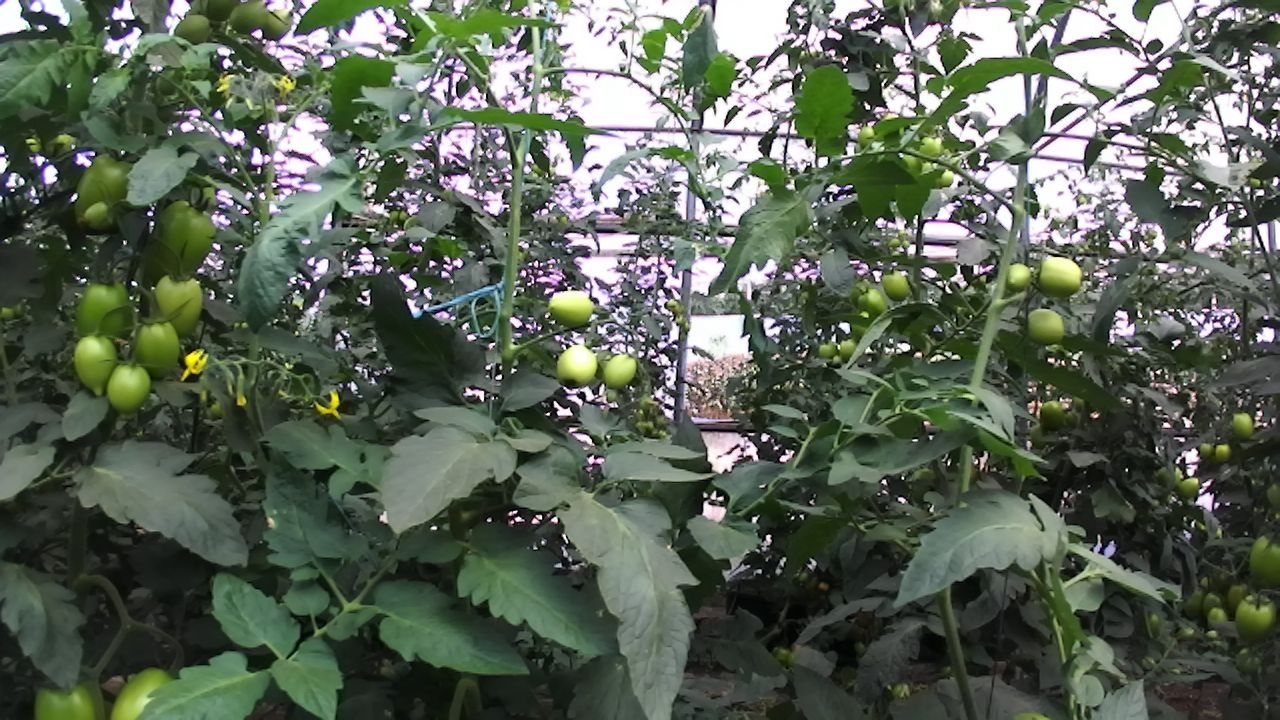tomato: (134, 182, 237, 310), (61, 141, 155, 246), (62, 271, 146, 371), (141, 262, 214, 347), (124, 313, 194, 390), (67, 327, 127, 404), (1029, 244, 1093, 308), (546, 335, 612, 397), (102, 354, 161, 421), (540, 278, 604, 338), (1231, 582, 1280, 657), (1238, 523, 1280, 607), (587, 341, 650, 397), (1014, 299, 1075, 356), (75, 194, 129, 238), (167, 7, 219, 50), (998, 257, 1043, 302), (223, 0, 273, 40), (848, 283, 895, 322), (878, 264, 917, 310), (259, 3, 298, 49), (1223, 403, 1263, 445), (1034, 393, 1071, 435), (832, 331, 865, 364), (1203, 603, 1233, 638), (1174, 471, 1204, 502), (811, 338, 842, 363), (1210, 440, 1235, 465), (1193, 437, 1219, 461)
